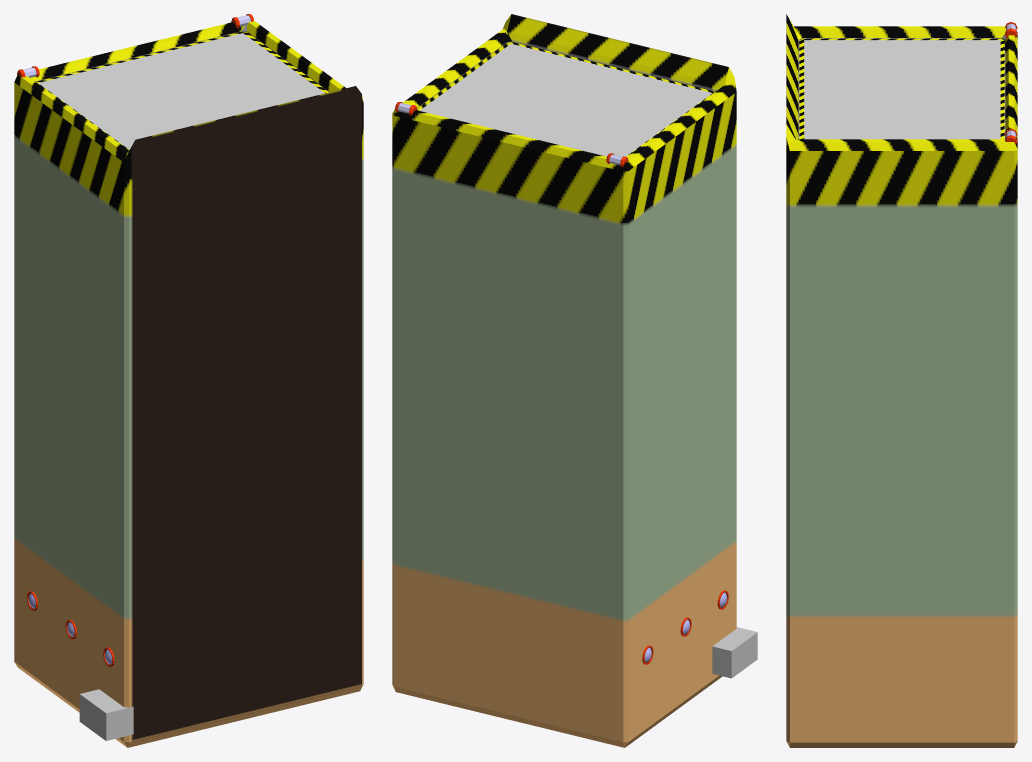
Rendered from hangar.fbx.
3 views of the same model, side by side, from view 1: azimuth 30°, elevation 25°; view 2: azimuth 150°, elevation 25°; view 3: azimuth 270°, elevation 25° (orthographic). The views are drawn at different scales.
Parts seen in each view (by area): view 1: model, gates, airlock_outer; view 2: model, gates, airlock_outer; view 3: model, gates.
Boxes of the visible parts, bbox=[...] form: model: bbox=[14, 21, 363, 747]; gates: bbox=[36, 31, 328, 150]; airlock_outer: bbox=[79, 689, 133, 740]; model: bbox=[392, 14, 736, 747]; gates: bbox=[417, 42, 714, 156]; airlock_outer: bbox=[712, 627, 757, 678]; model: bbox=[786, 14, 1017, 747]; gates: bbox=[799, 38, 1004, 139].
Size of what is drawn, in the model's own units: 5.95 by 13.33 by 4.5.
7 materials, 6 textured.
